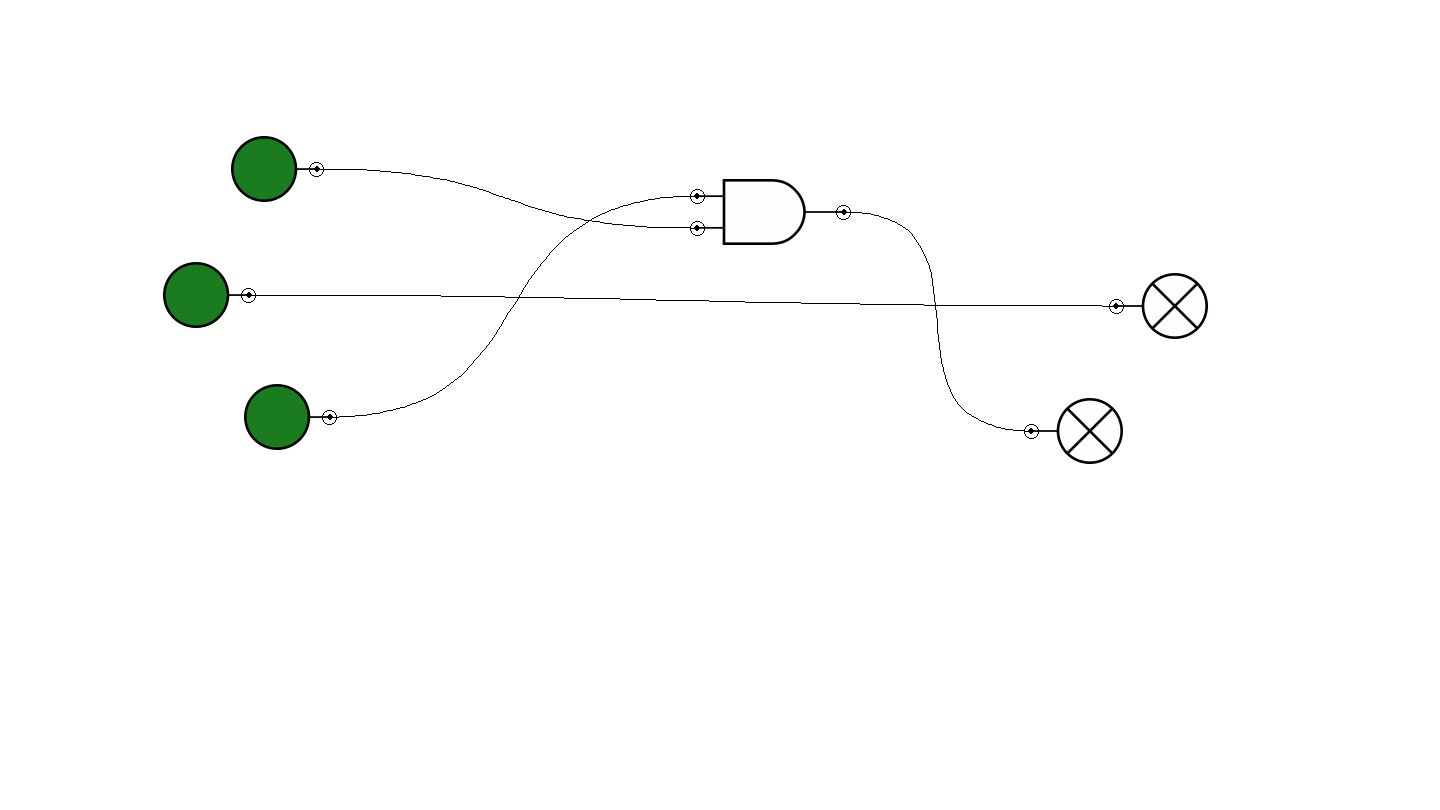and: (690, 179, 851, 245)
bulb: (1109, 273, 1208, 339), (1024, 398, 1123, 464)
switch_True: (244, 384, 337, 450), (231, 136, 324, 202), (163, 262, 256, 328)
